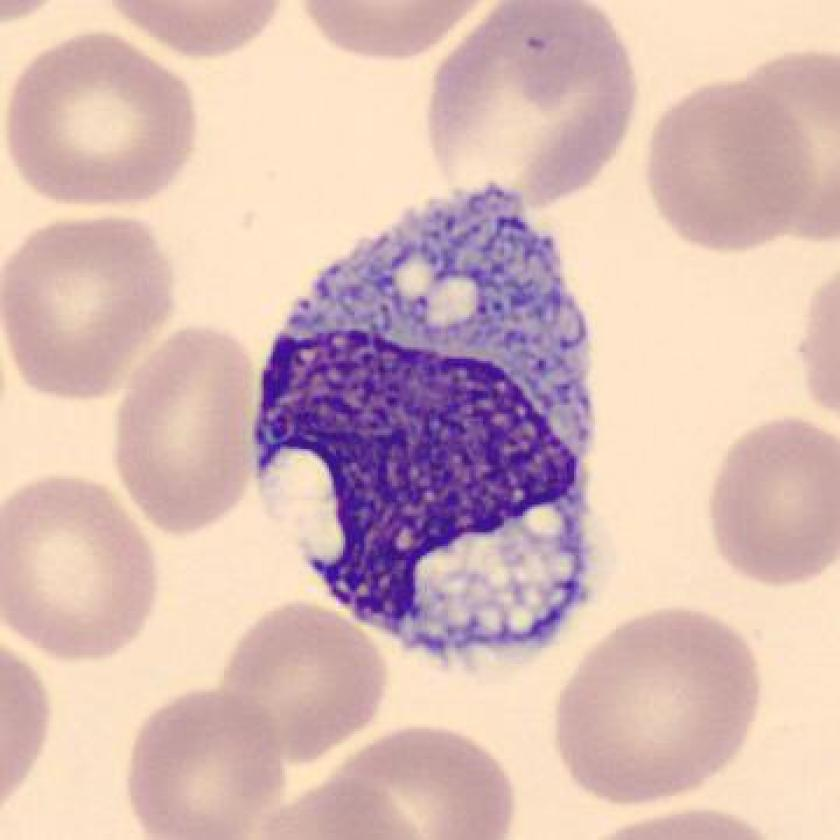monocyte: (232, 163, 617, 686)
